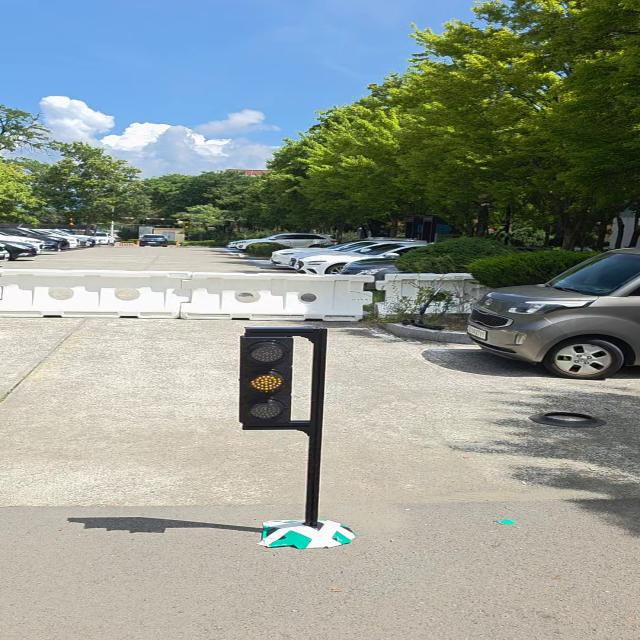yellow: (238, 335, 294, 426)
